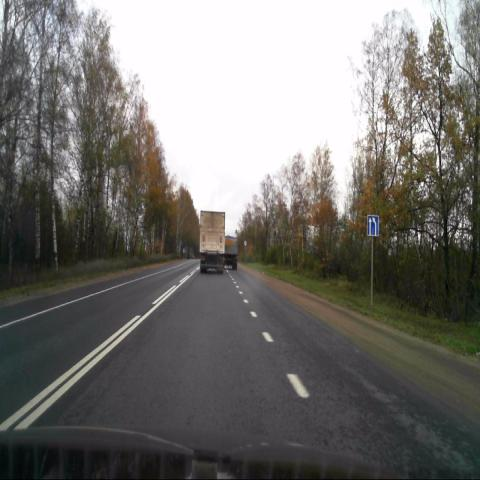5_15_5: (367, 214, 379, 236)
